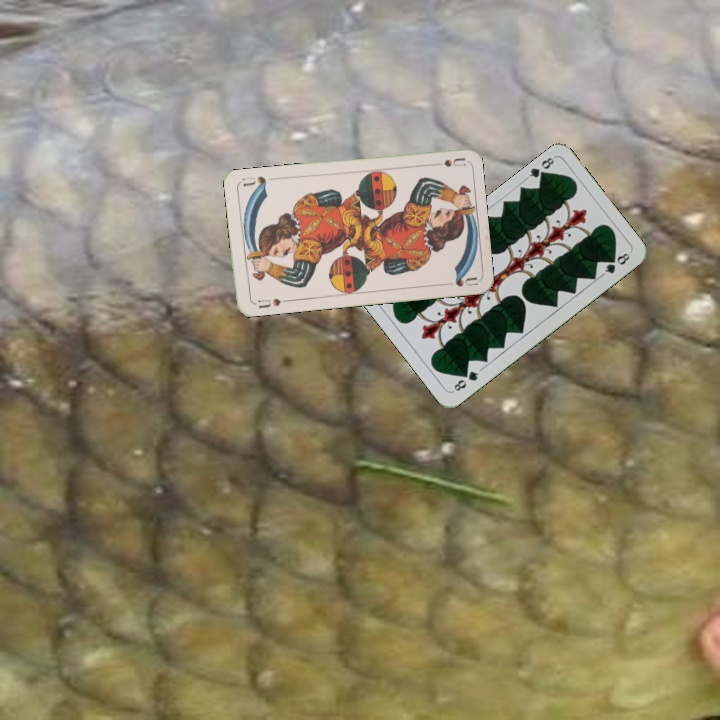G8: (522, 152, 557, 183), (449, 365, 483, 394)
SU: (254, 294, 290, 311), (440, 154, 467, 169)
